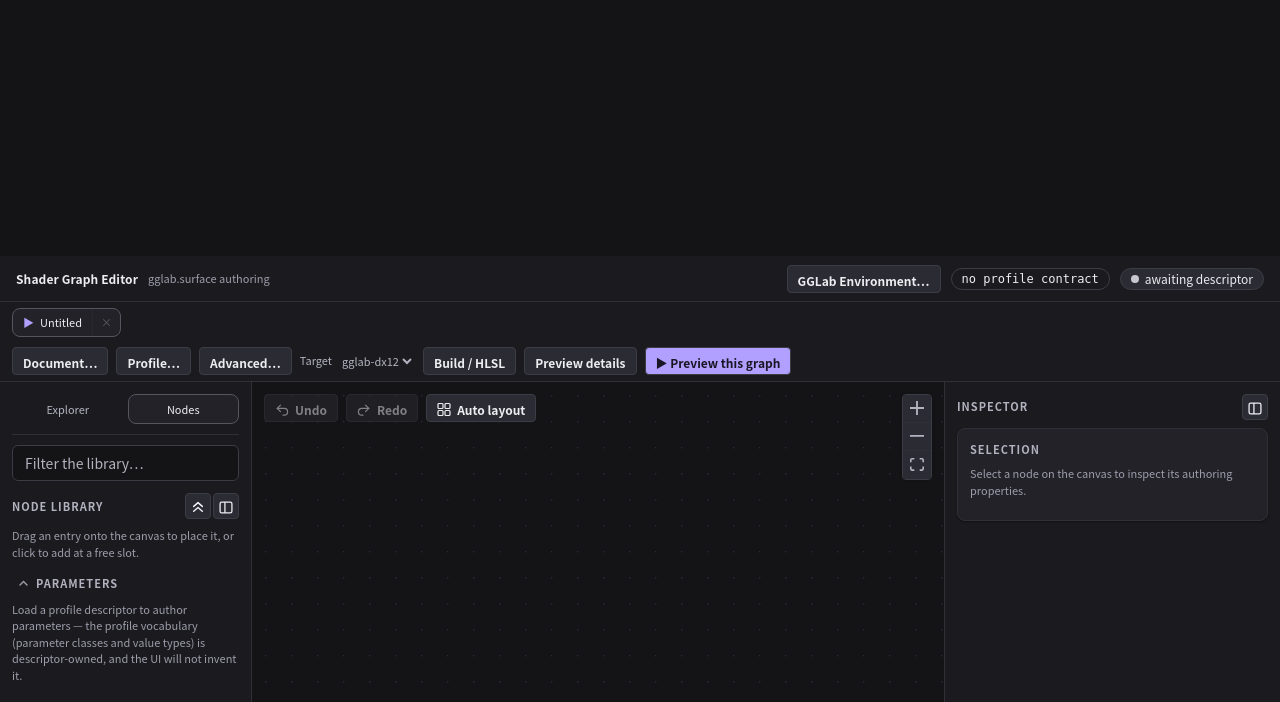
Scenario: selection Inspector and global workbench surfaces › keeps loose tool paths in explicit advanced configuration
(page scrolled)
What coordinates should you click on to do the following:
click the button "Advanced…"
I would click on:
 (245, 360)
Its box is [199,346,292,374].
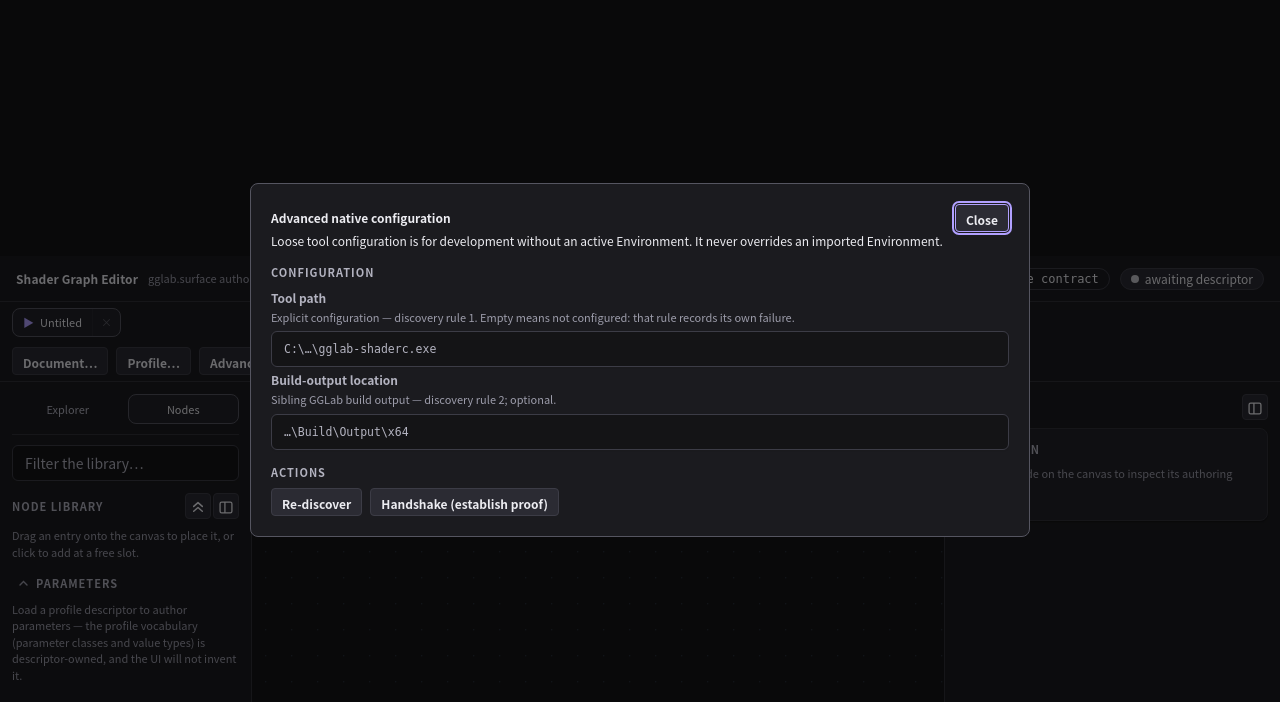
expect the field named "Explicit tool path (discovery rule 1)" is shown: met, box [271,331,1009,367]
expect the button "Re-discover" is shown: met, box [271,488,362,516]
